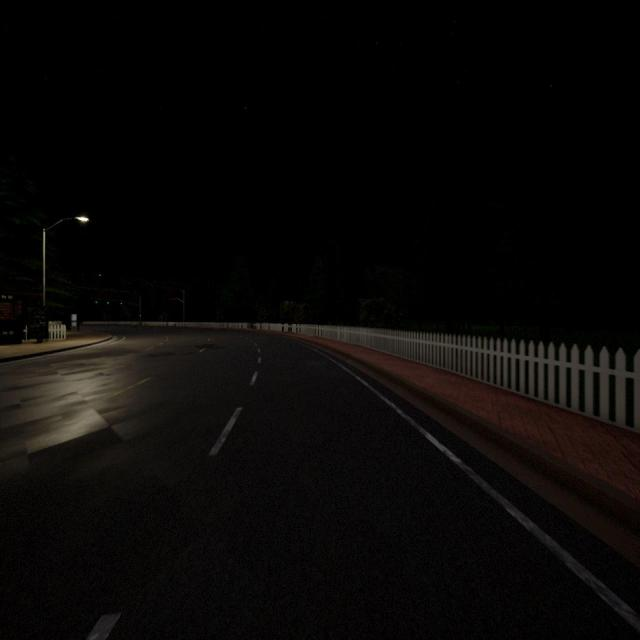traffic_light: (95, 301, 98, 304), (139, 314, 141, 317), (107, 302, 109, 304), (121, 303, 122, 305)
